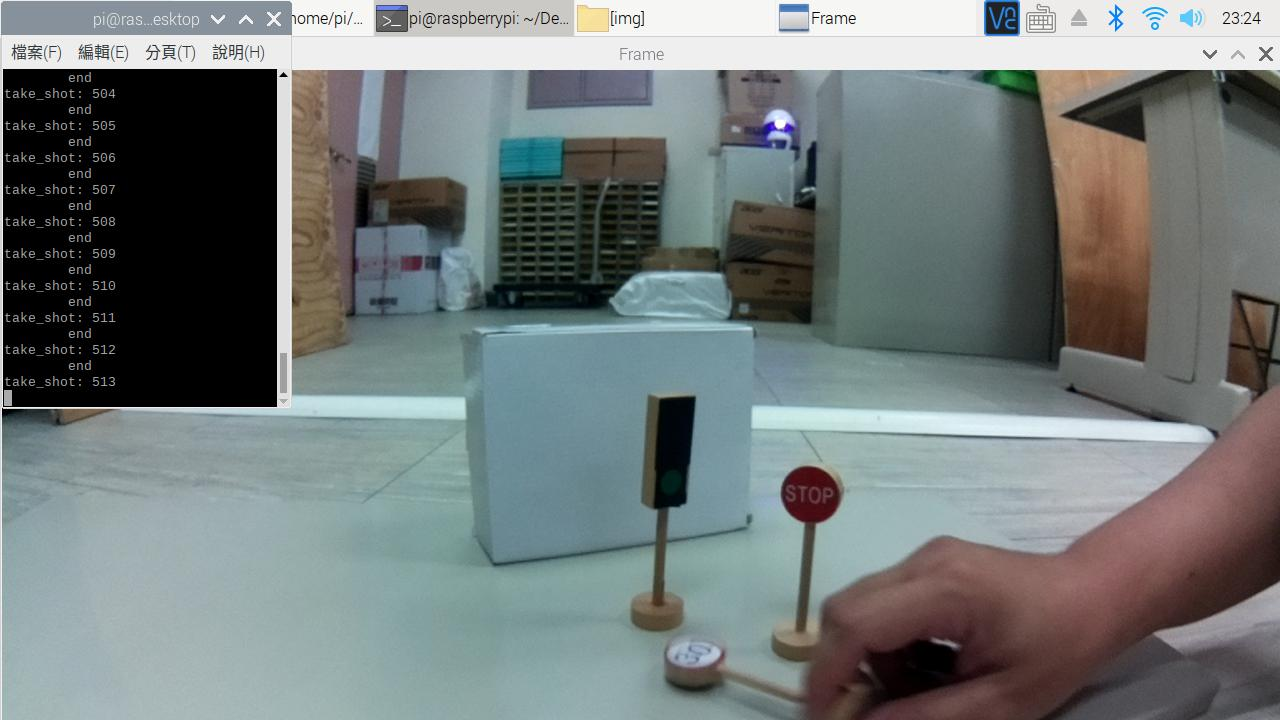Green: (637, 388, 716, 518)
Stop: (777, 459, 850, 529)
